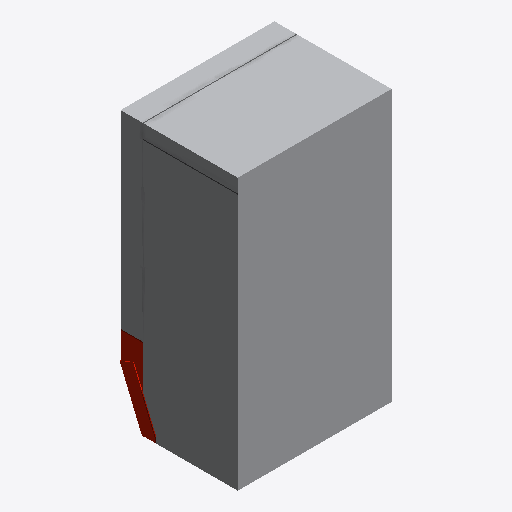
A Minecraft block model of 12 cuboids, rendered isometrically (azimuth 45°, elevation 35.3°) with the resource pack's own textures.
Visible parts, largest first — element 5, element 1, element 2, element 3, element 7, element 4, element 8, element 9.
Boxes of the visible parts, <box> form: element 5: <box>121,21,391,194</box>; element 1: <box>143,309,391,490</box>; element 2: <box>121,233,391,397</box>; element 3: <box>121,128,251,320</box>; element 7: <box>252,115,376,312</box>; element 4: <box>377,106,391,240</box>; element 8: <box>120,360,155,437</box>; element 9: <box>121,331,142,372</box>.
Size of the model in its own units: 15.9 by 27.76 by 12.02.